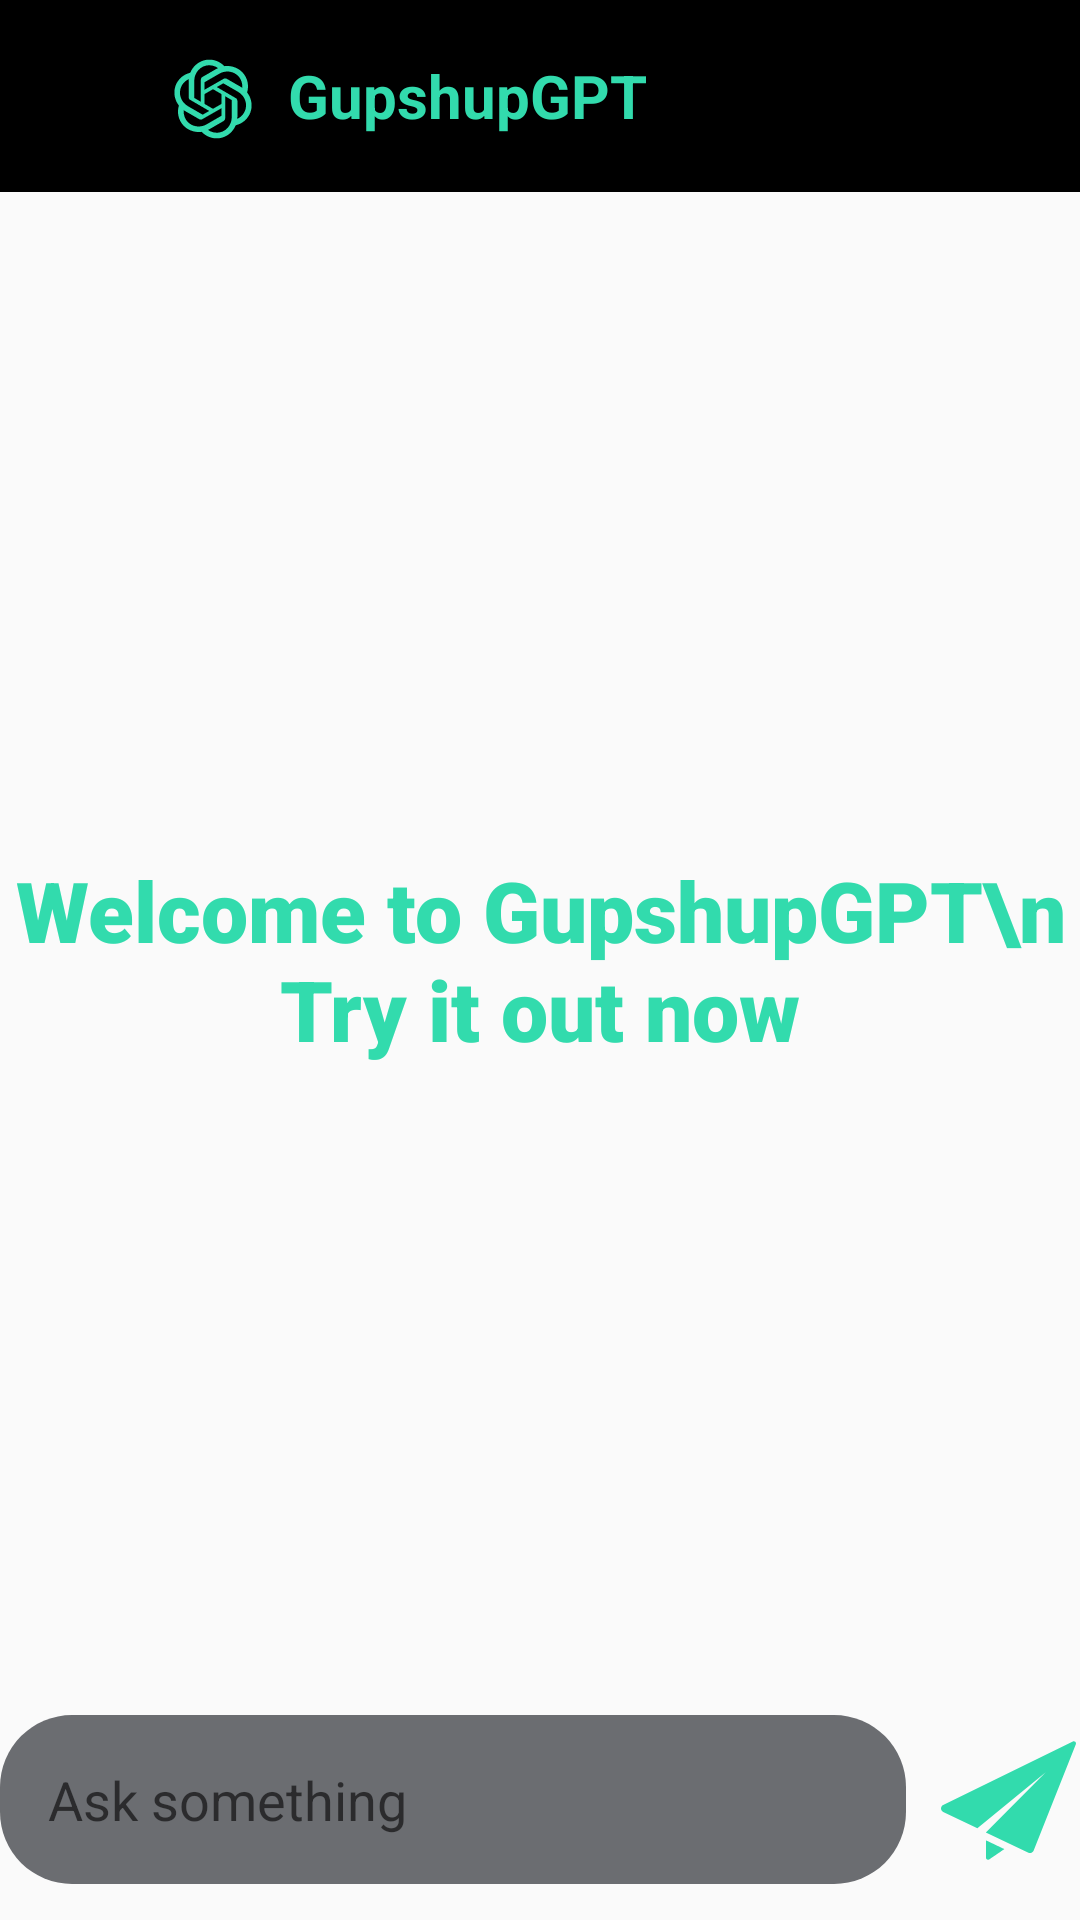

Screen size 1080*1920. Icon name, then its box in pixels as (x1, y1, x2, y2):
sending: (941, 1741, 1076, 1860)
